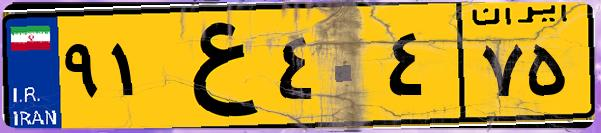0: (330, 28, 385, 110)
1: (110, 28, 158, 98)
4: (270, 28, 330, 110), (385, 28, 445, 110)
5: (525, 38, 570, 115)
7: (475, 38, 525, 113)
9: (57, 26, 110, 100)
ع: (158, 12, 270, 120)
